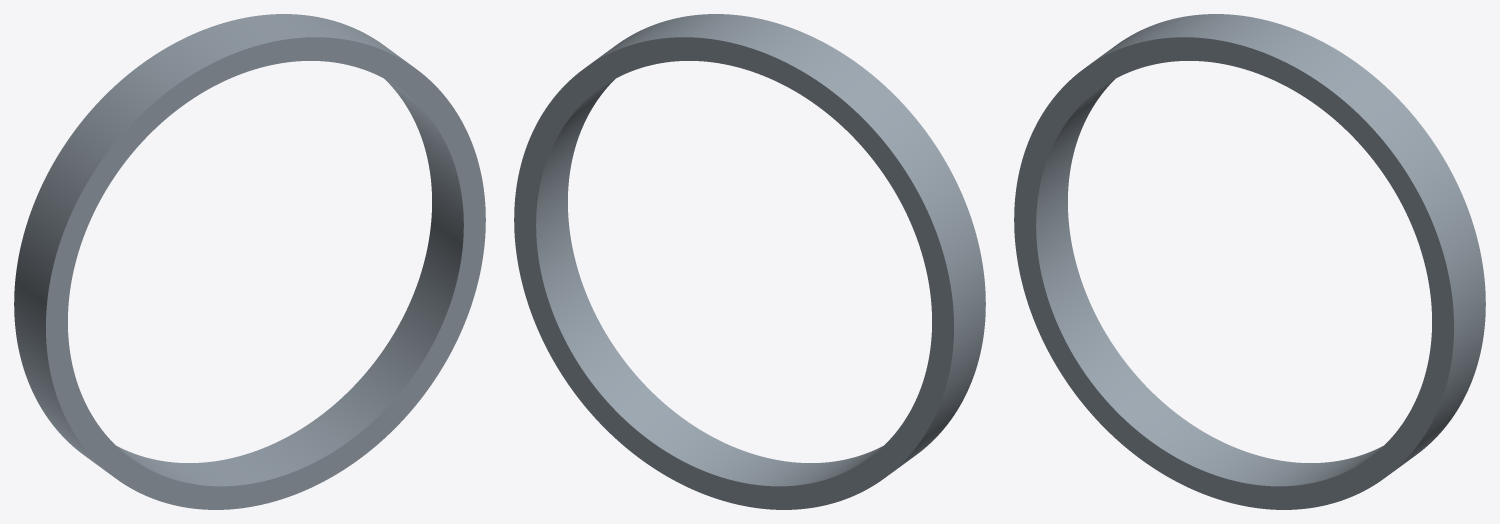
The picture shows the model from 3 angles, left to right: view 1: azimuth 30°, elevation 25°; view 2: azimuth 150°, elevation 25°; view 3: azimuth 330°, elevation 25°; orthographic projection.
Bounding box in the file's own units: 0.2 × 0.2 × 0.025.
